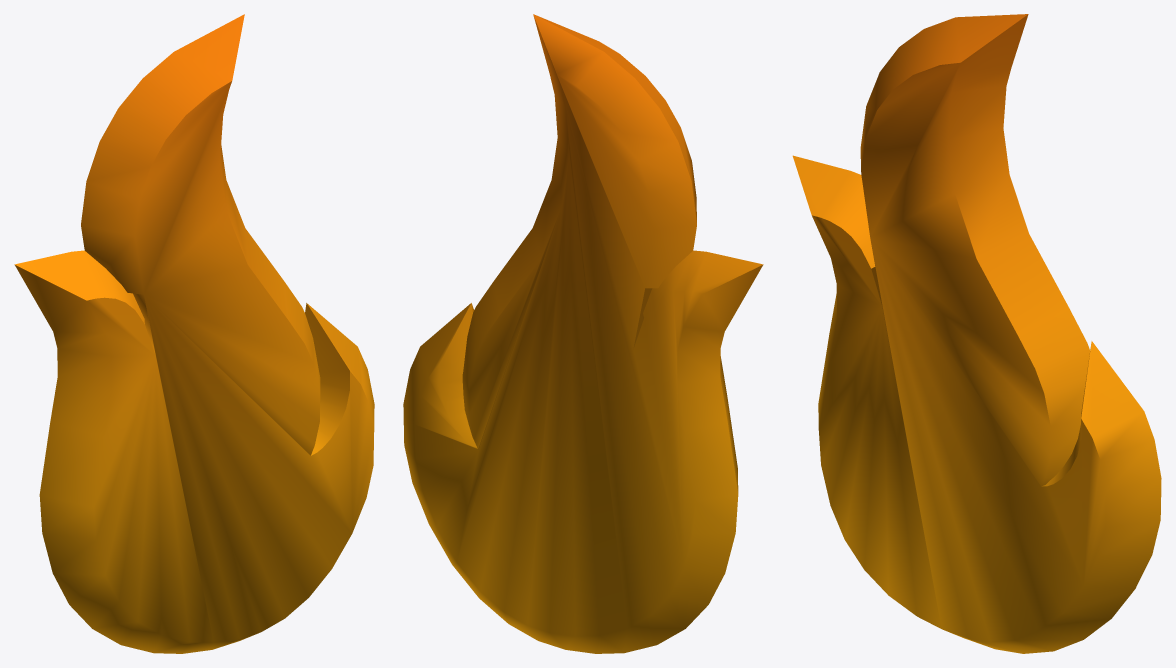
The model's file is FlameShape07.fbx.
3 renders of one model, left to right at view 1: azimuth 30°, elevation 25°; view 2: azimuth 150°, elevation 25°; view 3: azimuth 330°, elevation 25°, orthographic. The views are drawn at different scales.
Visible parts, largest first — view 1: FlameShape07; view 2: FlameShape07; view 3: FlameShape07.
Part boxes in pixels (bbox=[...]): FlameShape07: bbox=[14, 14, 374, 653]; FlameShape07: bbox=[403, 14, 763, 653]; FlameShape07: bbox=[792, 14, 1161, 653].
Bounding box in the file's own units: 54.27 × 90.43 × 11.09.
1 material, 1 textured.
